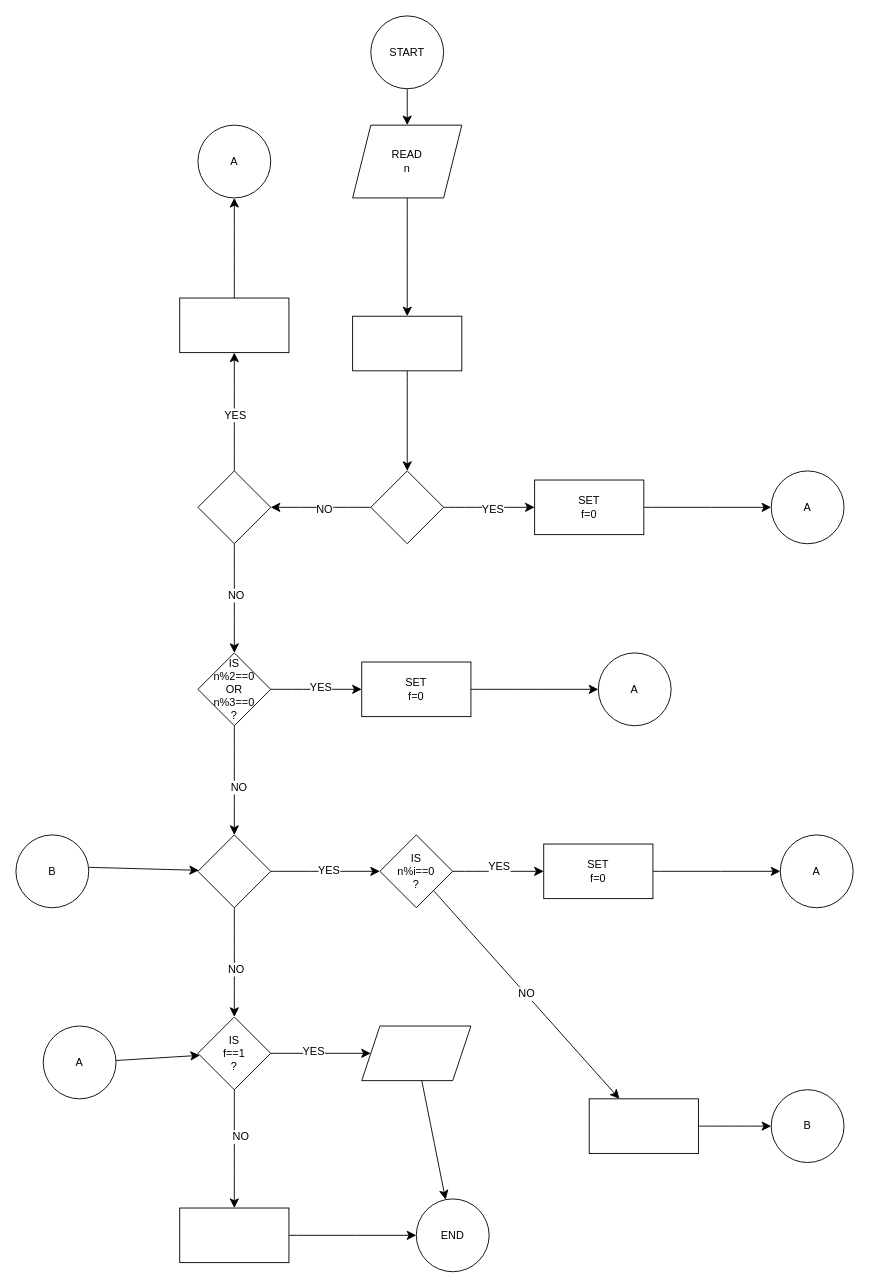
Image size: 869x1288. Some labels were removed from this diagram. Each missing label, with the centre of its shape:
IS i*i<=n ?: (x=234, y=871)
IS n<=1 ?: (x=407, y=507)
IS n==2 OR n==3 ?: (x=234, y=507)
OUTPUT "Not Prime": (x=234, y=1235)
OUTPUT "Prime": (x=416, y=1053)
SET f=1: (x=234, y=325)
SET f=1 i=5: (x=407, y=343)
SET i=i+2: (x=643, y=1125)
